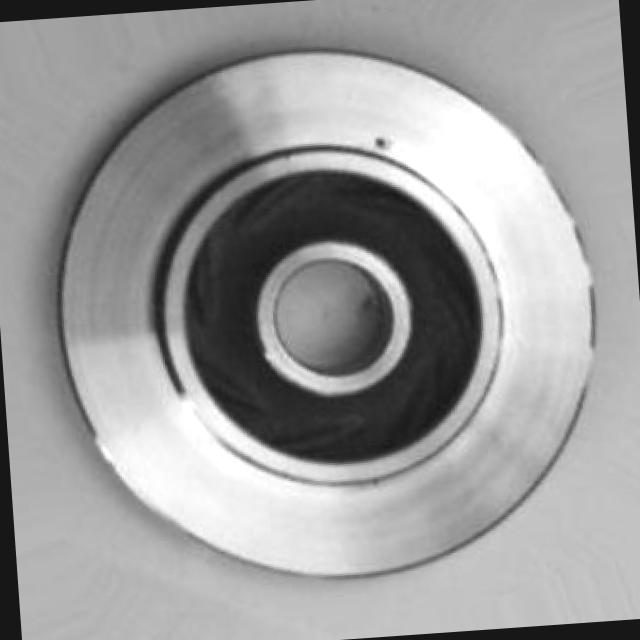Defect: (370, 132, 404, 163)
